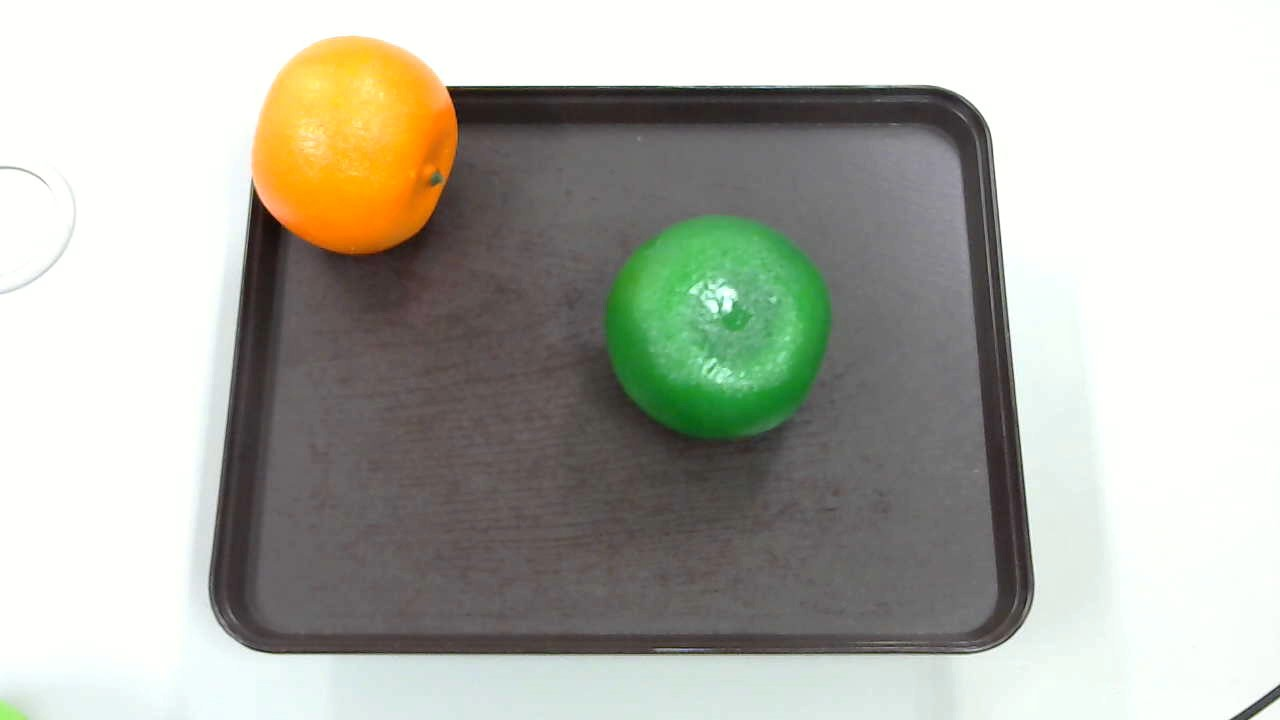green orange: (598, 209, 838, 453)
orange: (247, 35, 468, 263)
